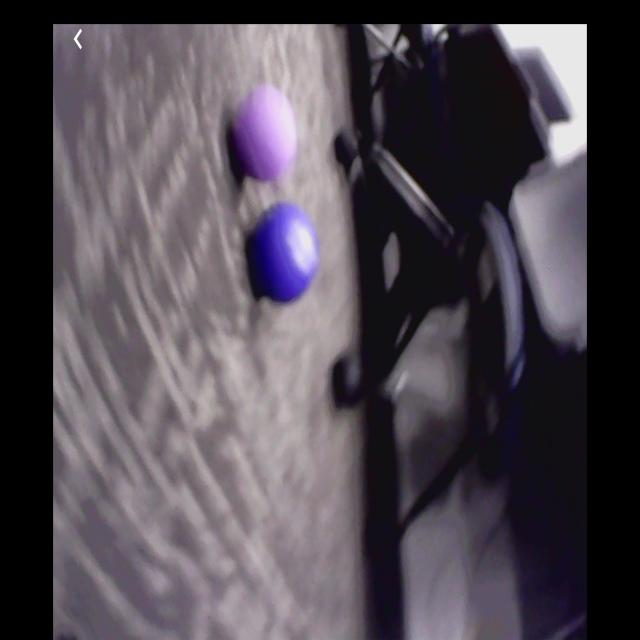ball: (246, 205, 318, 305), (236, 89, 299, 180)
